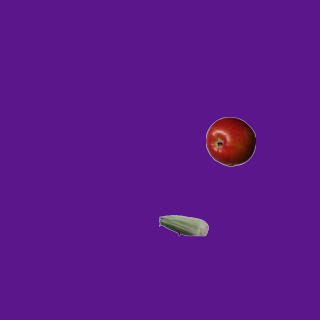Apple Braeburn: (205, 116, 255, 166)
Corn Husk: (158, 200, 208, 250)
